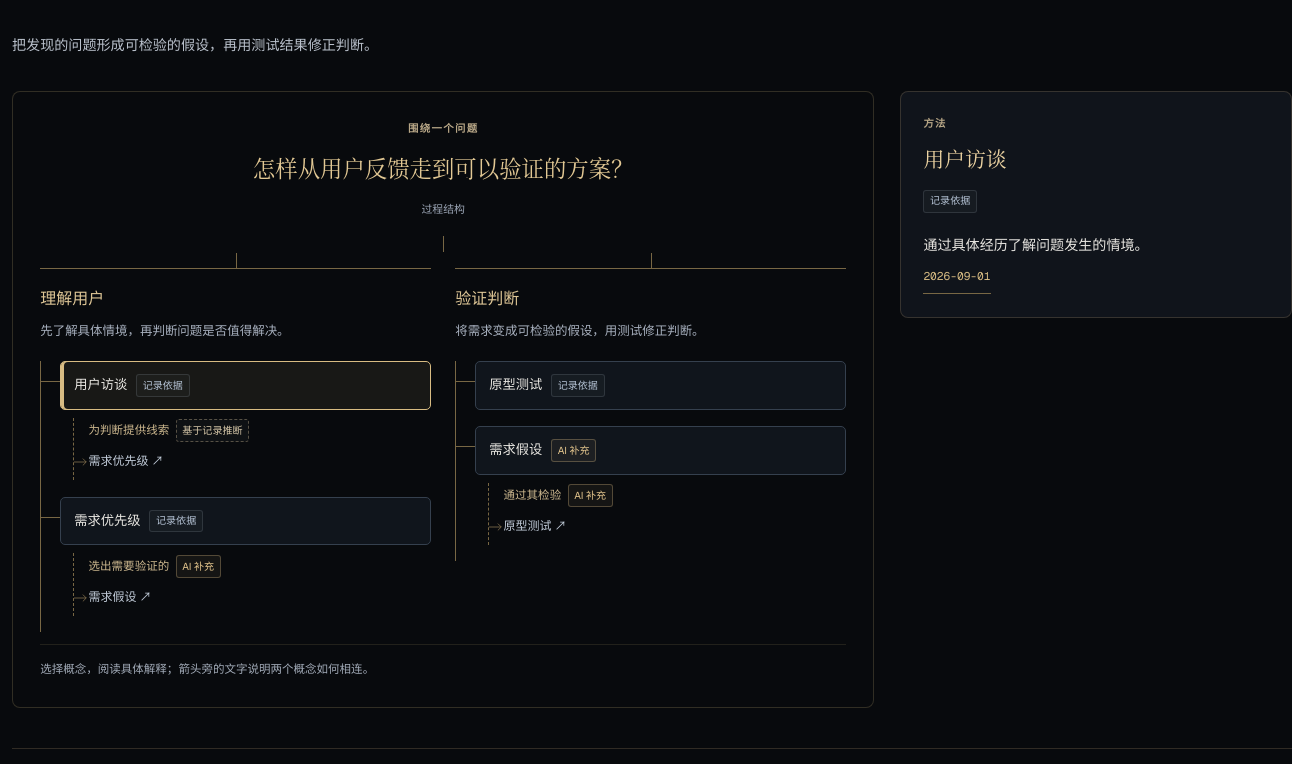
it: organizes selectable concepts by branches around a core question and keeps outline selections in sync
The width and height of the screenshot is (1292, 764).
Expected: the heading "怎样从用户反馈走到可以验证的方案？" is shown, [253,151,634,183]
Expected: the heading "理解用户" is shown, [40,288,104,308]
Click the button with aria-label "查看概念 需求假设" at (516, 450), box [475,426,846,474]
(page scrolled)
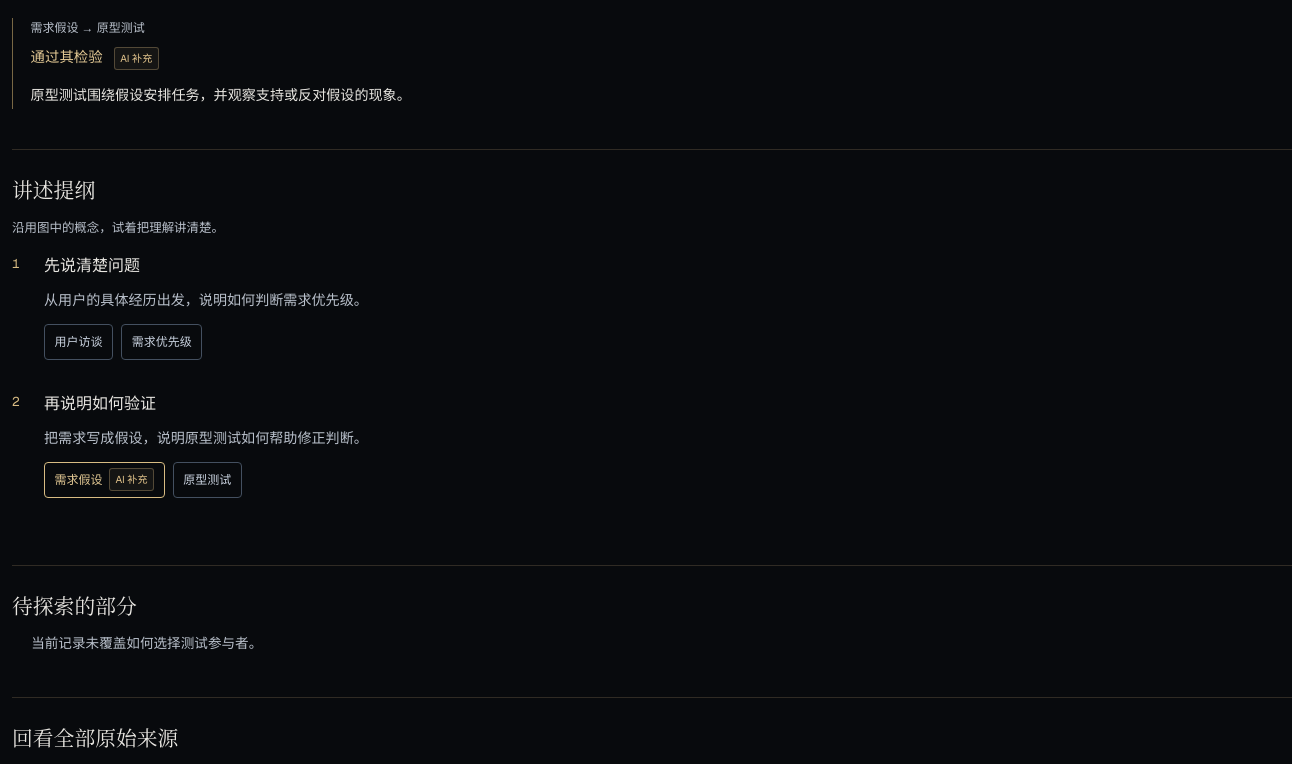
Click the button with aria-label "查看概念 原型测试" at (207, 480), box [173,462,242,498]
(page scrolled)
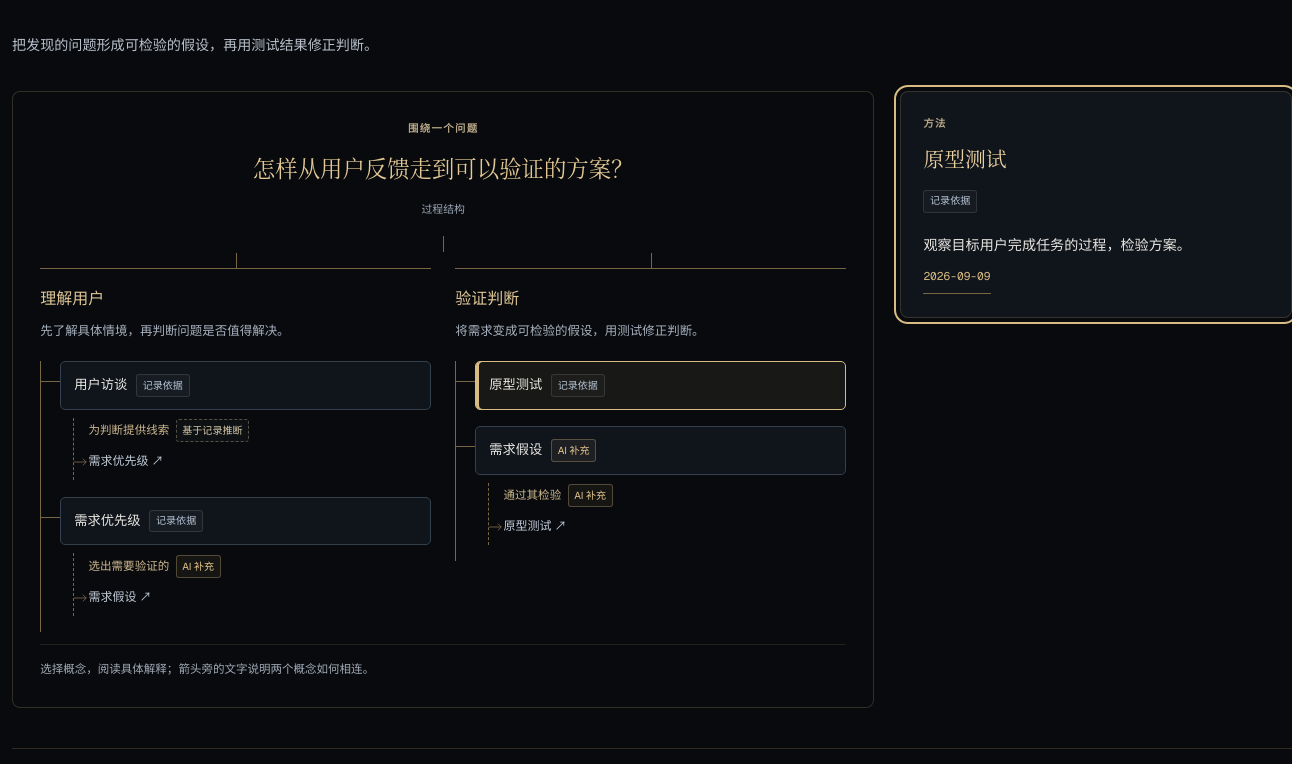
Expected: the heading "原型测试" is shown, [923,144,1007,174]
